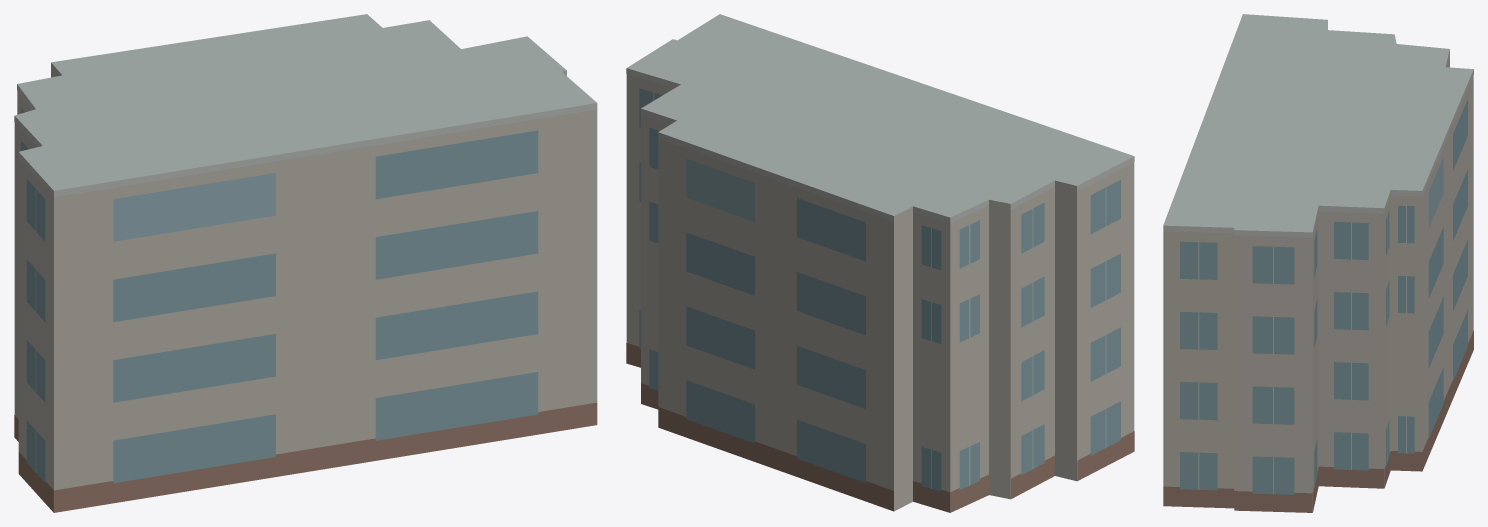
File: survey-upis-32954841.glb
The picture shows the model from 3 angles, left to right: view 1: azimuth 30°, elevation 25°; view 2: azimuth 150°, elevation 25°; view 3: azimuth 270°, elevation 25°; orthographic projection. The views are drawn at different scales.
Parts seen in each view (by area): view 1: survey-upis-32954841.tmp; view 2: survey-upis-32954841.tmp; view 3: survey-upis-32954841.tmp.
Boxes of the visible parts, <box> form: survey-upis-32954841.tmp: <box>14,14,597,512</box>; survey-upis-32954841.tmp: <box>626,14,1134,512</box>; survey-upis-32954841.tmp: <box>1163,14,1473,512</box>.
Size of the model in its own units: 20.71 by 12.4 by 12.46.
